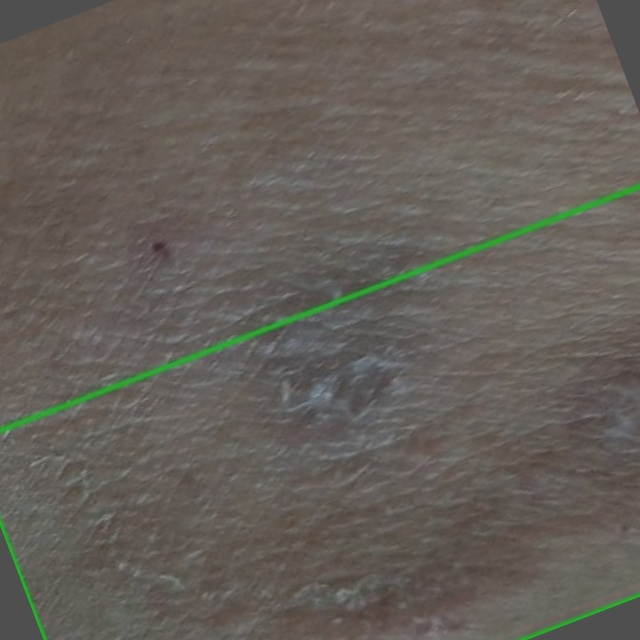Tinea Corporis: (0, 186, 639, 639)
